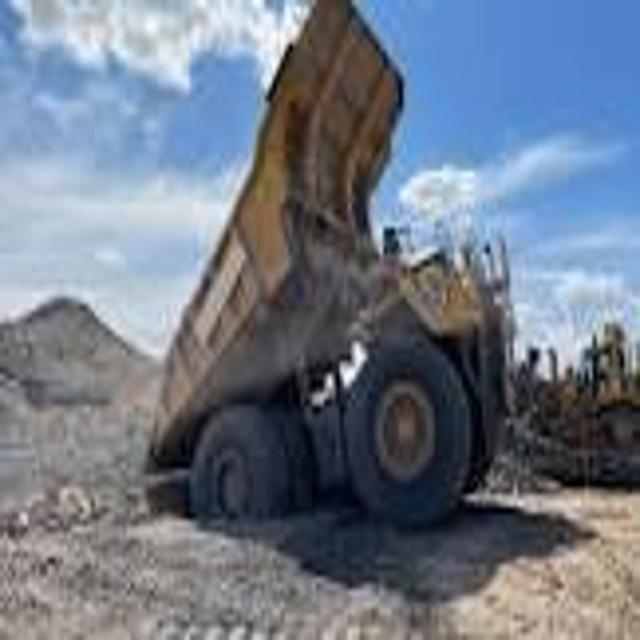dump_truck: (151, 0, 518, 573)
